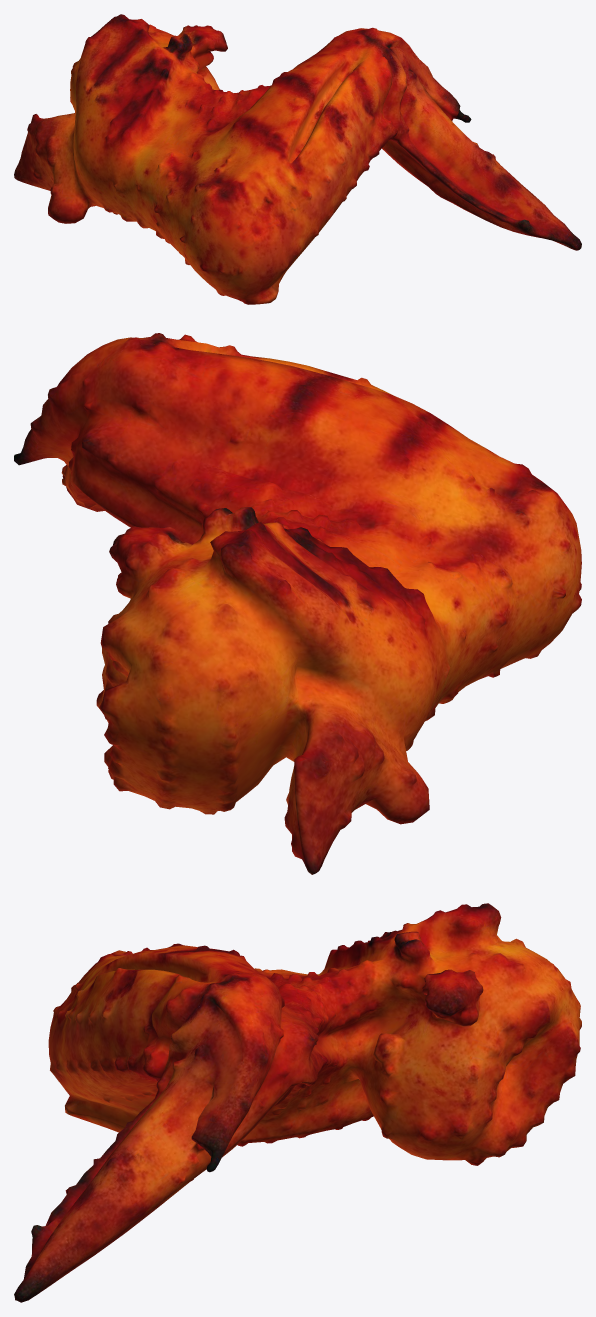
File: wings.glb
3 views of the same model, one above another, from view 1: azimuth 30°, elevation 25°; view 2: azimuth 150°, elevation 25°; view 3: azimuth 270°, elevation 25° (orthographic). The views are drawn at different scales.
Visible parts, largest first — view 1: tripo_node_5a6bad25-6d45-4e6e-a49f-465f0a205246; view 2: tripo_node_5a6bad25-6d45-4e6e-a49f-465f0a205246; view 3: tripo_node_5a6bad25-6d45-4e6e-a49f-465f0a205246.
Boxes of the visible parts, box(x1,y1,x2,y2) form: tripo_node_5a6bad25-6d45-4e6e-a49f-465f0a205246: box(14, 14, 581, 304); tripo_node_5a6bad25-6d45-4e6e-a49f-465f0a205246: box(14, 333, 581, 874); tripo_node_5a6bad25-6d45-4e6e-a49f-465f0a205246: box(14, 903, 581, 1302).
Bounding box in the file's own units: 0.1186 × 0.057 × 0.12.
1 material, 1 textured.
